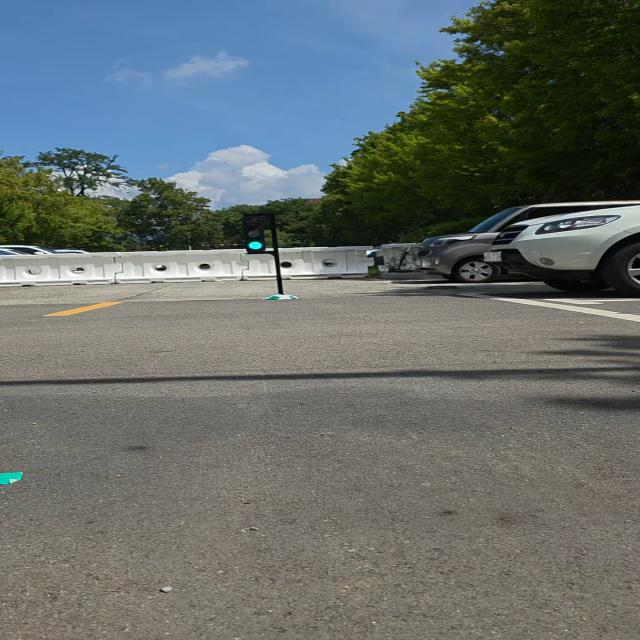green: (239, 212, 274, 253)
